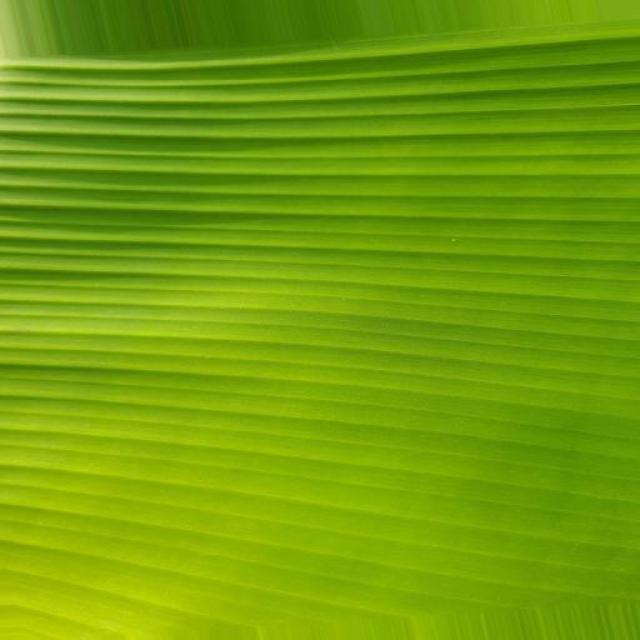Black_leaf_spot: (10, 38, 640, 640)
